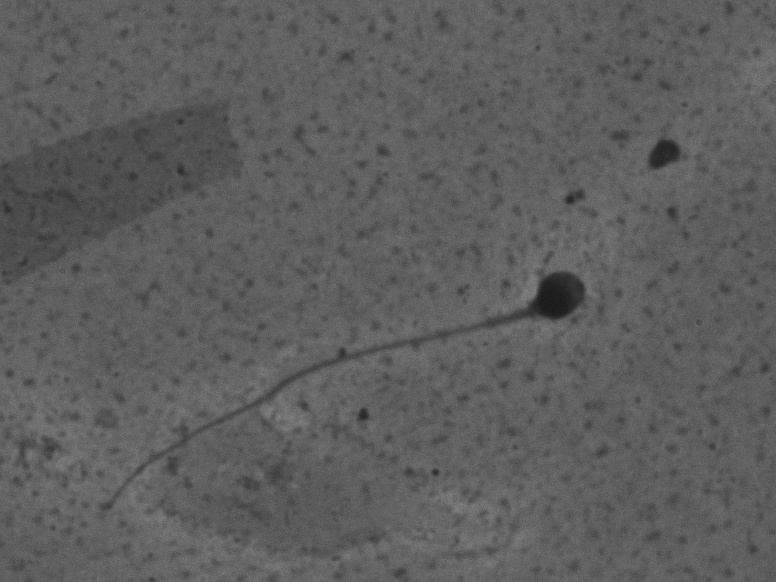Abnormal: (58, 231, 614, 525)
